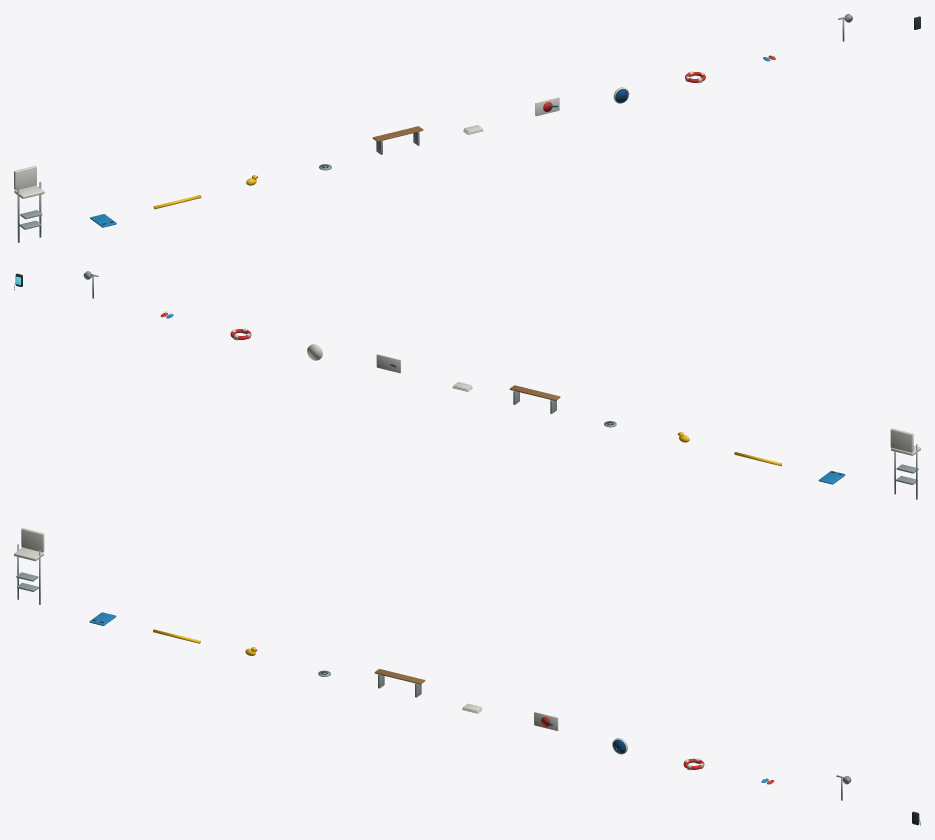
3 views of the same model, one above another, from view 1: azimuth 30°, elevation 25°; view 2: azimuth 150°, elevation 25°; view 3: azimuth 330°, elevation 25° (orthographic).
Visible parts, largest first — view 1: no part large enough to name; view 2: chair_back; view 3: no part large enough to name.
Boxes of the visible parts, left/top/right/bottom form: chair_back: left=890, top=428, right=913, bottom=452.
Size of the model in its own units: 29.28 by 2.39 by 0.72.
